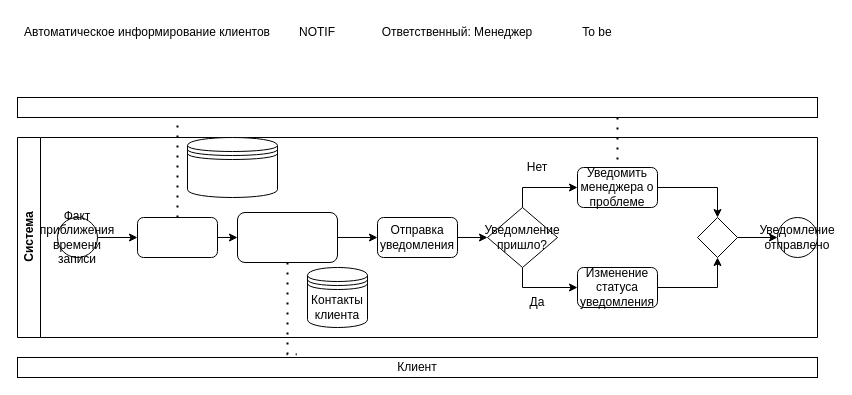
Image size: 852x395. Some labels were removed from this diagram. Each missing label, with the centre of its shape:
Менеджер: point 417,107
Нахождение клиента в указаном канале связи: point 287,237
Сверка требований уведомления: point 177,237
Требования по уведомлениям: point 232,167
